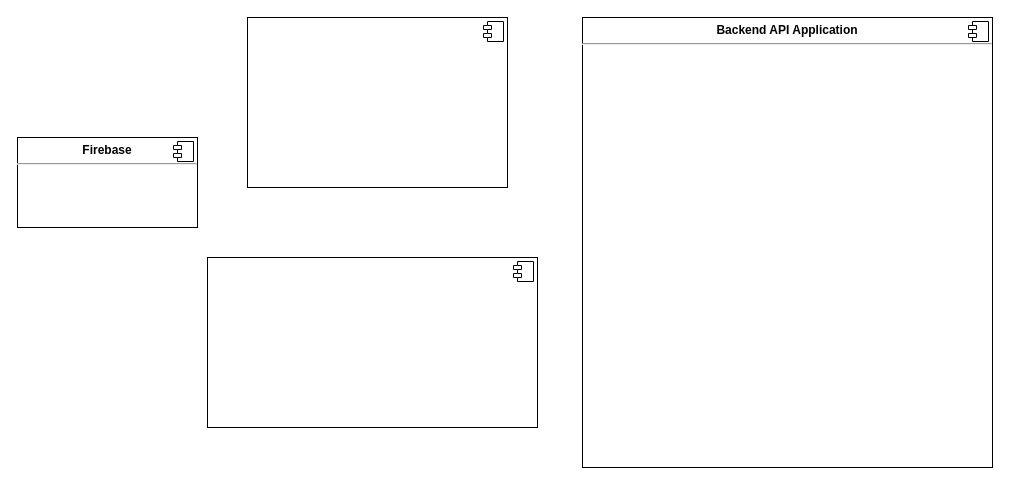
This 1010x485 diagram has some shape labels left out. Here are the shapes that lost their labels. From the top down, the centre of each, then its label:
the point at 377,102: Admin Web Application
the point at 372,342: Mobile Application
